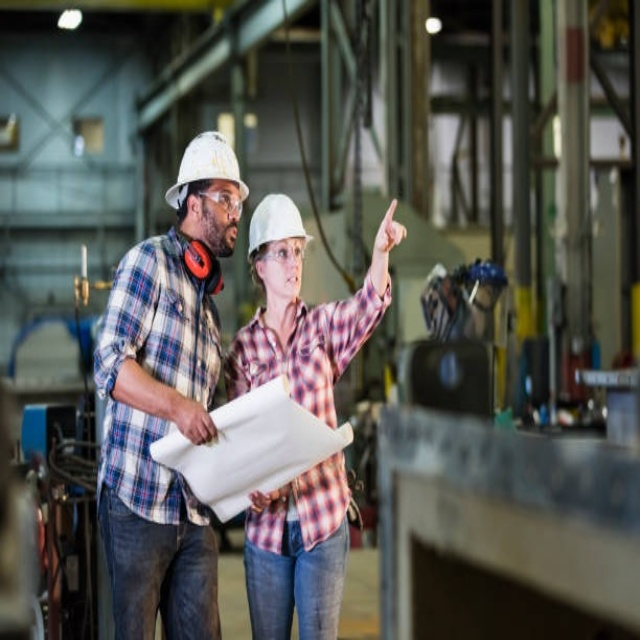Gafas: (198, 190, 245, 219), (259, 243, 308, 265)
Sin_guantes: (174, 396, 222, 448), (370, 196, 408, 259), (249, 488, 284, 512)
Sin_mascara: (219, 220, 241, 257), (282, 271, 302, 295)
